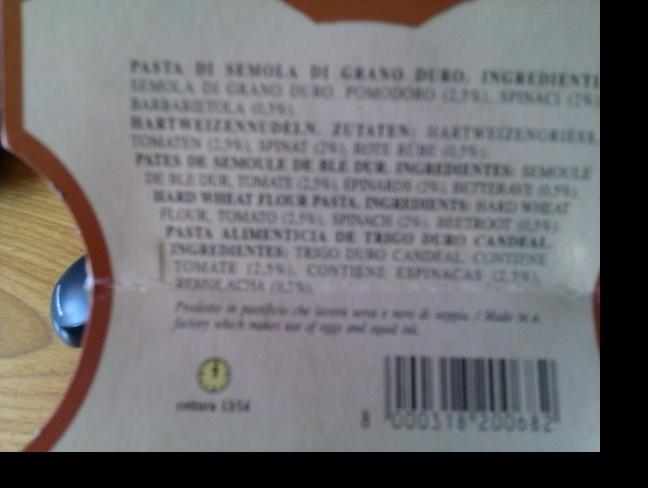Barcode: (344, 348, 577, 441)
